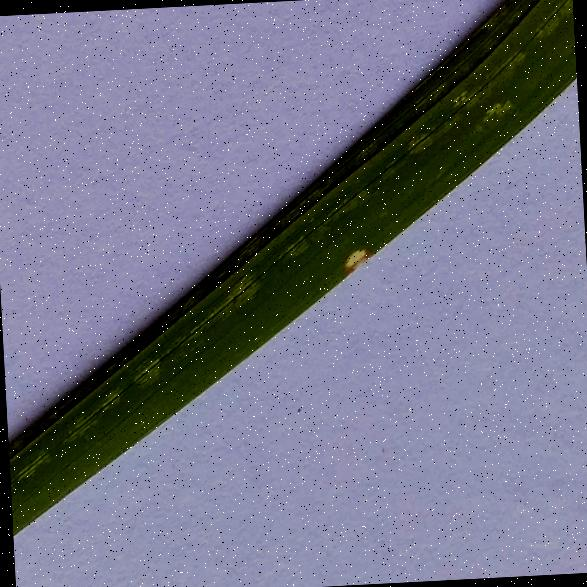Leaf_smut: (330, 224, 374, 282)
